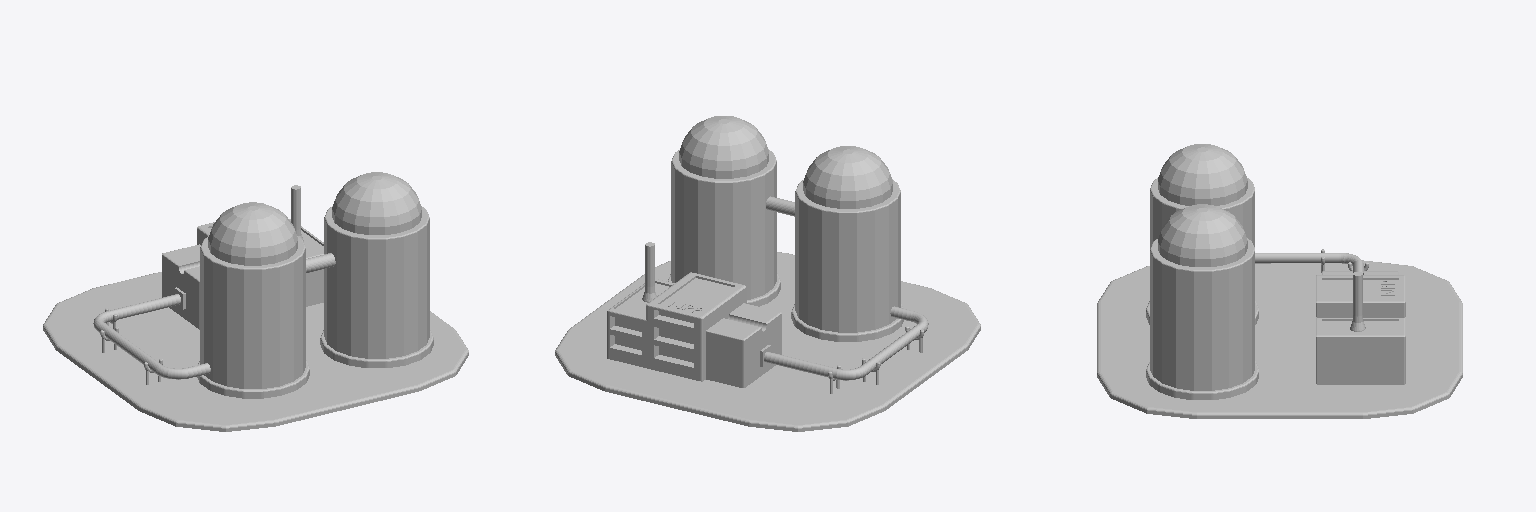
The model's file is Kraftwerk1.obj.
The picture shows the model from 3 angles: view 1: azimuth 30°, elevation 25°; view 2: azimuth 150°, elevation 25°; view 3: azimuth 270°, elevation 25°; orthographic projection.
Parts seen in each view (by area): view 1: Plane_Plane.001; view 2: Plane_Plane.001; view 3: Plane_Plane.001.
Boxes of the visible parts, box(x1,y1,x2,y2) form: Plane_Plane.001: box(43, 172, 468, 431); Plane_Plane.001: box(555, 116, 980, 431); Plane_Plane.001: box(1097, 144, 1462, 418).
Size of the model in its own units: 2.01 by 1.04 by 2.01.